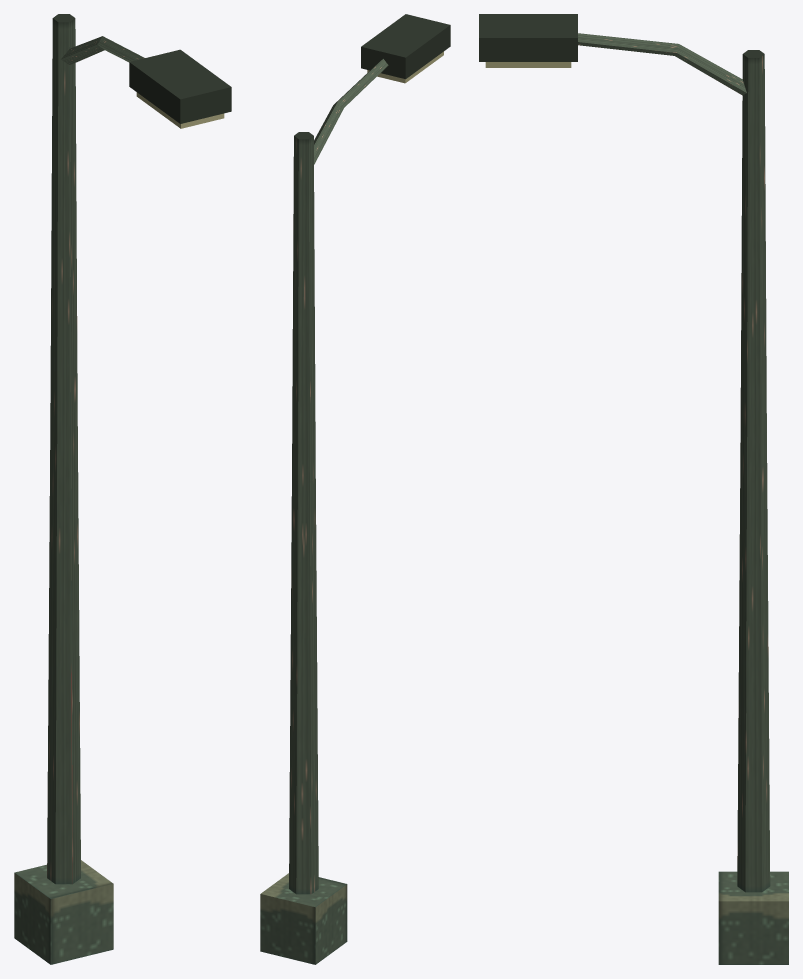
The model's file is SM_Forest_LampPole_30x140x450.fbx.
3 renders of one model, left to right at view 1: azimuth 30°, elevation 25°; view 2: azimuth 150°, elevation 25°; view 3: azimuth 270°, elevation 25°, orthographic. The views are drawn at different scales.
Visible parts, largest first — view 1: SM_Forest_LampPole_30x140x450.003; view 2: SM_Forest_LampPole_30x140x450.003; view 3: SM_Forest_LampPole_30x140x450.003.
Part boxes in pixels (box(x1,y1,x2,y2)): SM_Forest_LampPole_30x140x450.003: box(14, 14, 231, 964); SM_Forest_LampPole_30x140x450.003: box(260, 14, 450, 964); SM_Forest_LampPole_30x140x450.003: box(479, 14, 788, 964).
Size of the model in its own units: 0.32 by 4.64 by 1.41.
